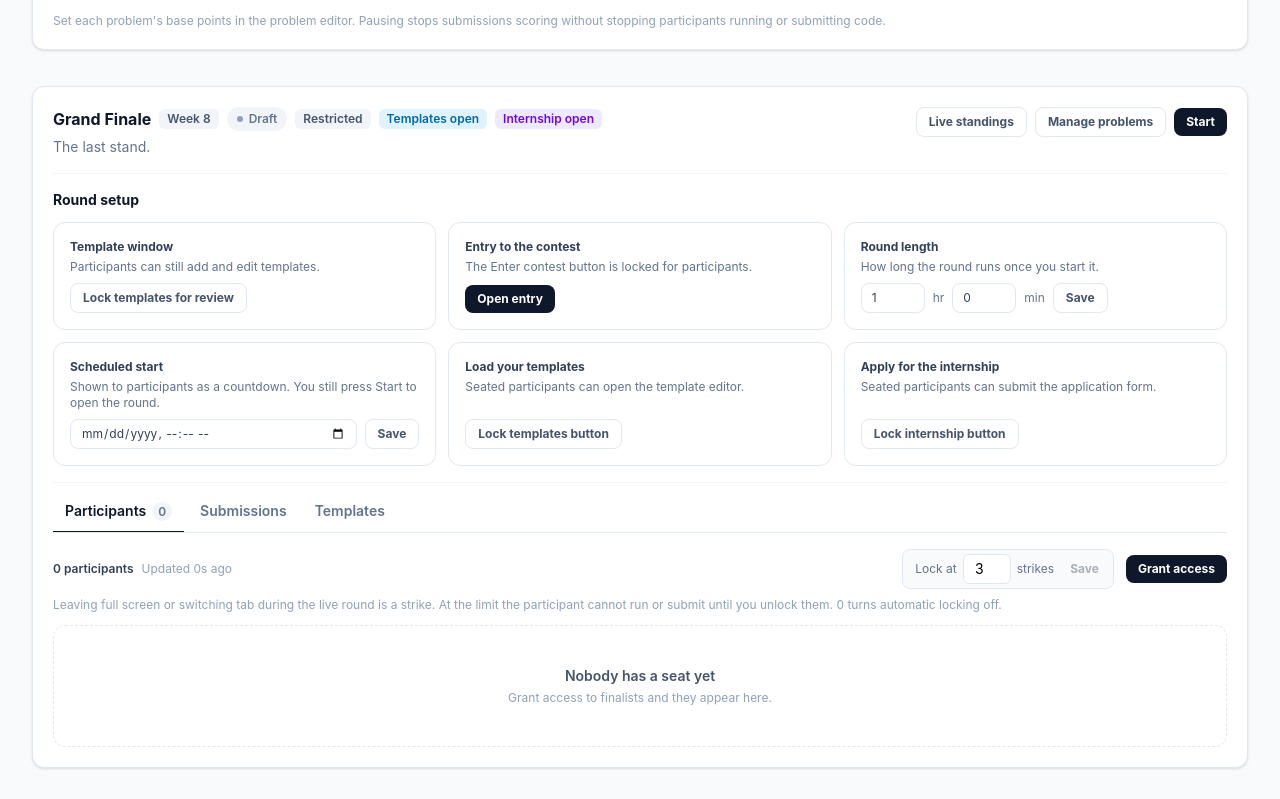
Scenario: FinalesPage › surfaces a visible error instead of silently emptying results when participant search fails
The image size is (1280, 799).
(page scrolled)
Expected: the heading "Grand Finale" is shown, [53,107,151,131]
Click the button "Grant access".
click(1176, 569)  # box [1126,555,1227,583]
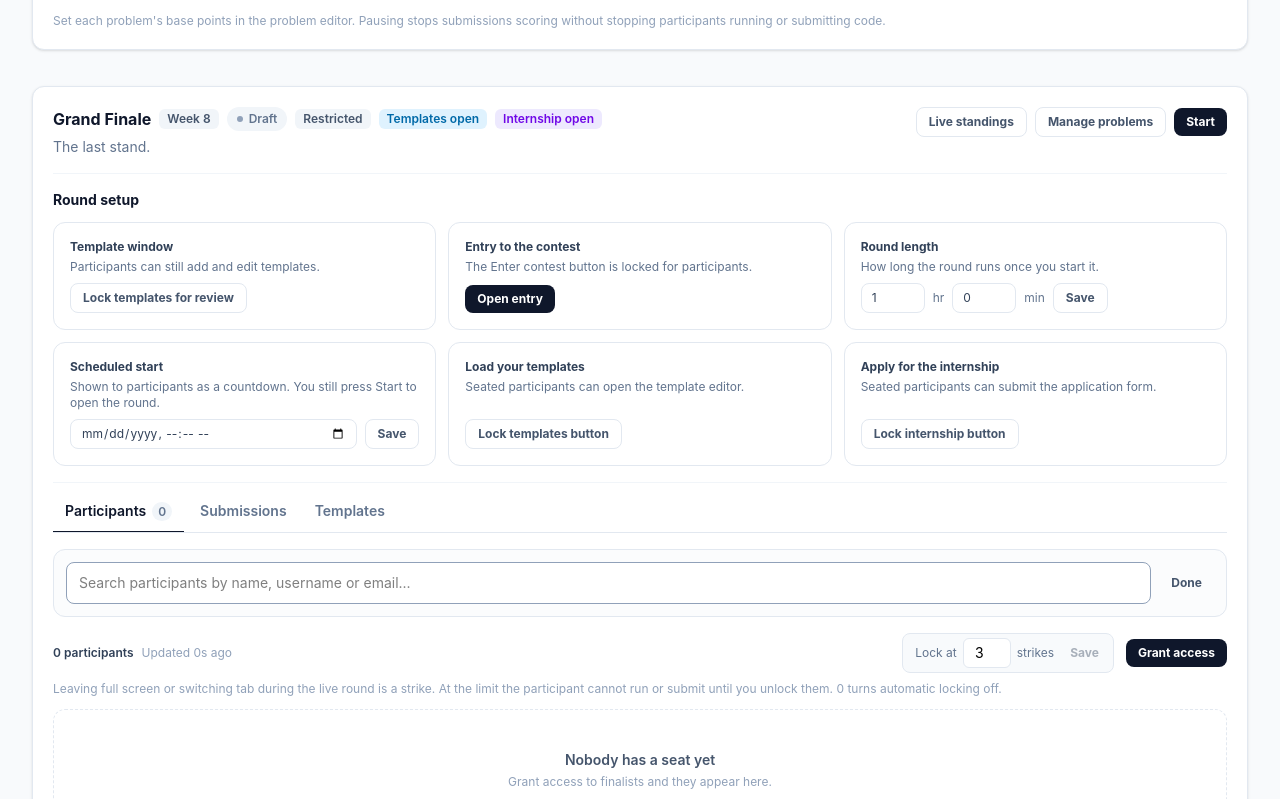
Type "ada" into the field with placeholder "Search participants by name, username or email...".
click(609, 583); type("ada")  # box [66,562,1151,604]
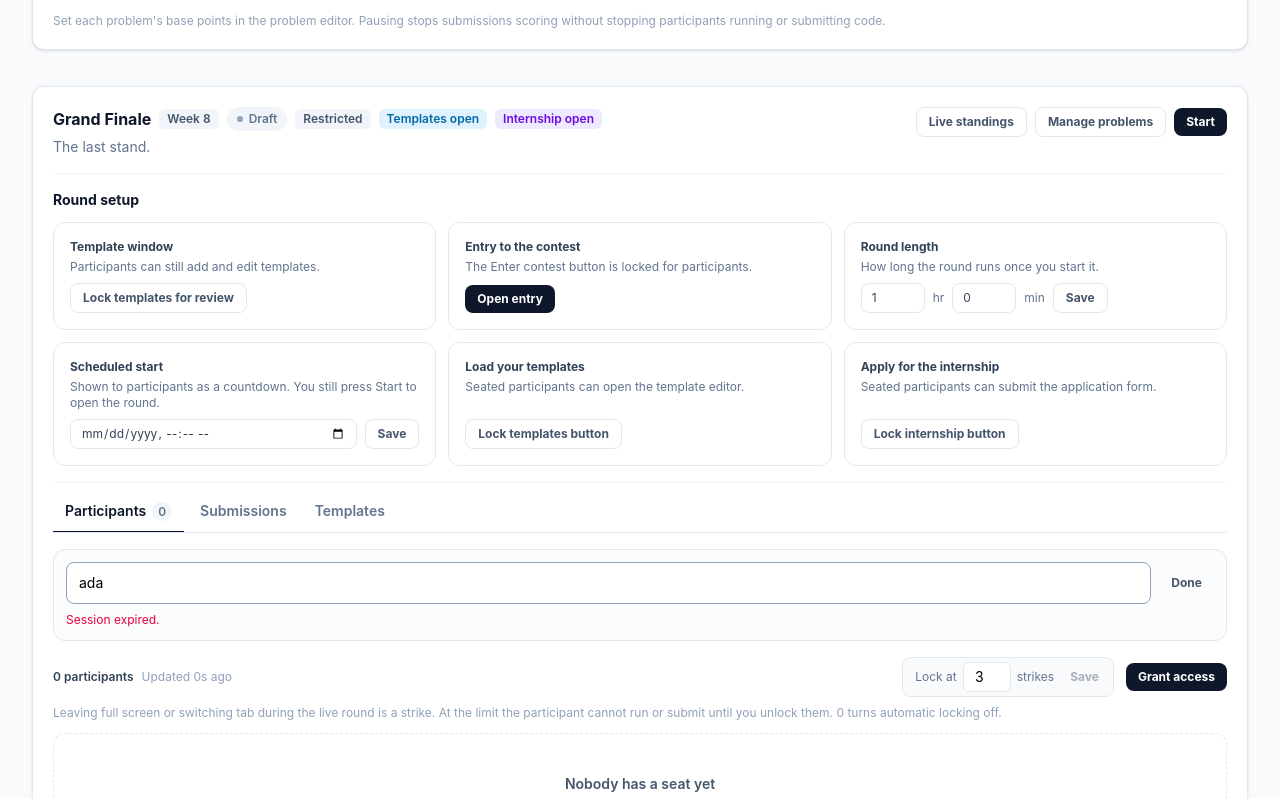
Expected: the message reads "Session expired.", [66,612,160,627]
